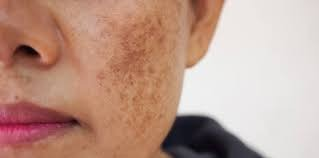Melasma: (99, 6, 165, 142)
